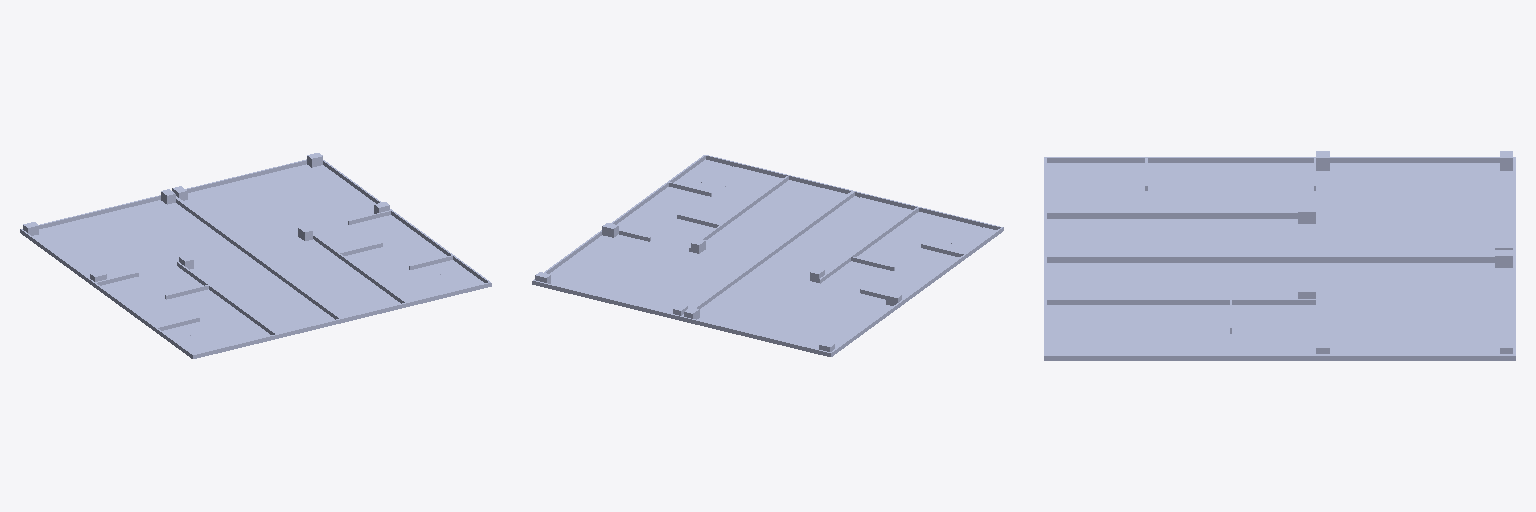
The robot description file, URDF, robot "field":
<?xml version="1.0" encoding="utf-8"?>
<!-- This URDF was automatically created by SolidWorks to URDF Exporter! Originally created by [author] ([email redacted]) 
     Commit Version: 1.6.0-4-g7f85cfe  Build Version: 1.6.7995.38578
     For more information, please see http://wiki.ros.org/sw_urdf_exporter -->
<robot
  name="field">
  <link
    name="base_link">
    <inertial>
      <origin
        xyz="-2.00410314296918E-15 3.3870032076175 0.018767965835143"
        rpy="0 0 0" />
      <mass
        value="248.19298432" />
      <inertia
        ixx="1127.40235268765"
        ixy="-7.91843214132369E-13"
        ixz="-1.32346511511592E-14"
        iyy="1003.37981587324"
        iyz="7.03678252274693E-14"
        izz="2130.63042476209" />
    </inertial>
    <visual>
      <origin
        xyz="0 0 0"
        rpy="0 0 0" />
      <geometry>
        <mesh
          filename="package://field/meshes/base_link.STL" />
      </geometry>
      <material
        name="">
        <color
          rgba="0.792156862745098 0.819607843137255 0.933333333333333 1" />
      </material>
    </visual>
    <collision>
      <origin
        xyz="0 0 0"
        rpy="0 0 0" />
      <geometry>
        <mesh
          filename="package://field/meshes/base_link.STL" />
      </geometry>
    </collision>
  </link>
</robot>

--- Render facts (derived) ---
Views: 3 orthographic renders of the robot side by side, from view 1: azimuth 30°, elevation 25°; view 2: azimuth 150°, elevation 25°; view 3: azimuth 270°, elevation 25°.
Robot: field — 1 links, 0 joints (none); root link base_link; default pose: every joint at zero.
Visible links, largest first — view 1: base_link; view 2: base_link; view 3: base_link.
Link boxes in pixels (left/top/right/bottom): base_link: left=20, top=153, right=491, bottom=358; base_link: left=532, top=155, right=1003, bottom=356; base_link: left=1044, top=151, right=1515, bottom=360.
Bounding box of the posed robot: 7 × 7 × 0.203 m (x, y, z).
Meshes: 1 distinct files referenced, 1 mesh visuals loaded (1 binary STL).